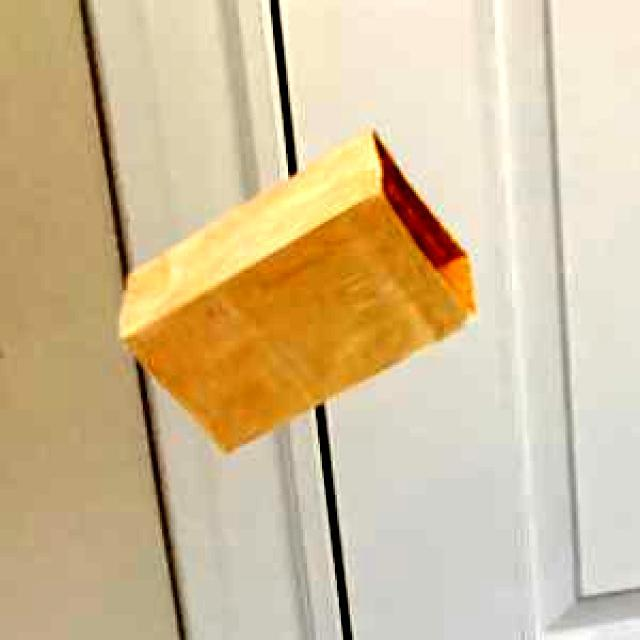Paper_Bag: (119, 127, 472, 449)
